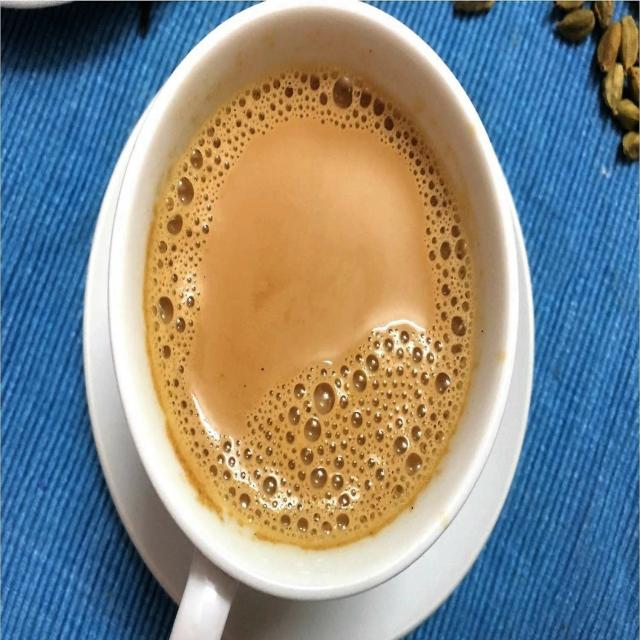Chai: (147, 65, 484, 549)
